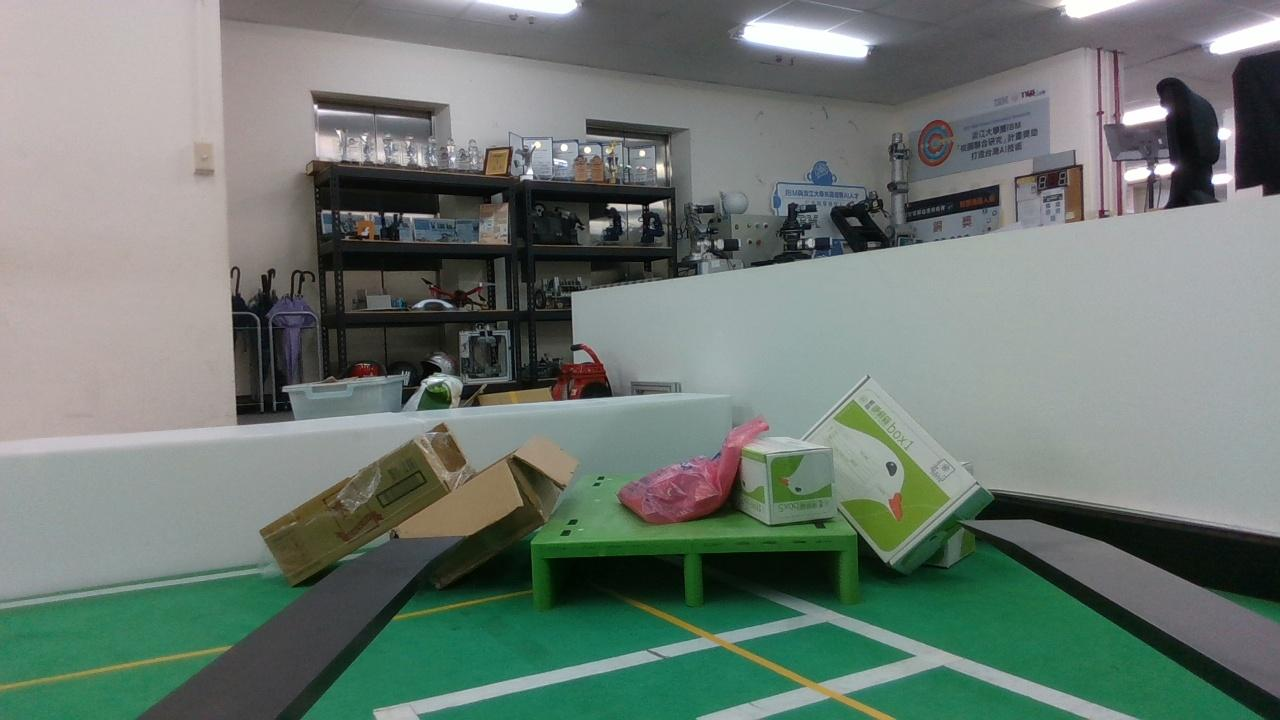Pallet: (531, 533, 859, 604)
